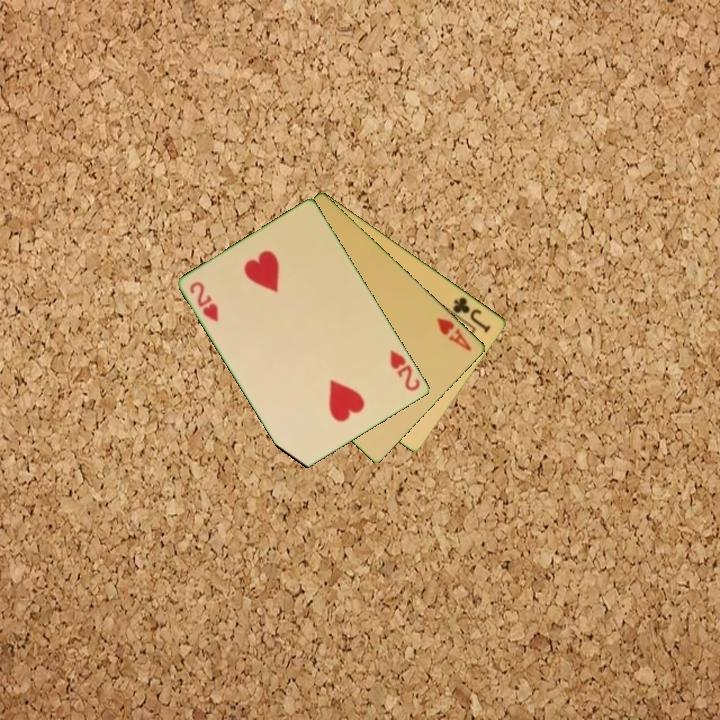2h: (387, 346, 424, 394), (186, 278, 222, 325)
Ah: (433, 314, 475, 354)
Jc: (449, 293, 494, 336)
